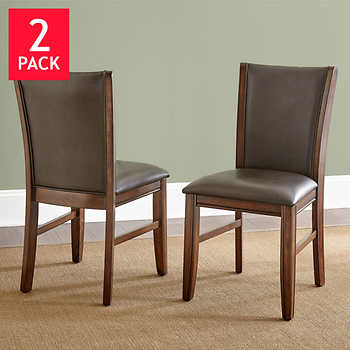chairs: (183, 60, 339, 320), (7, 66, 172, 309)
